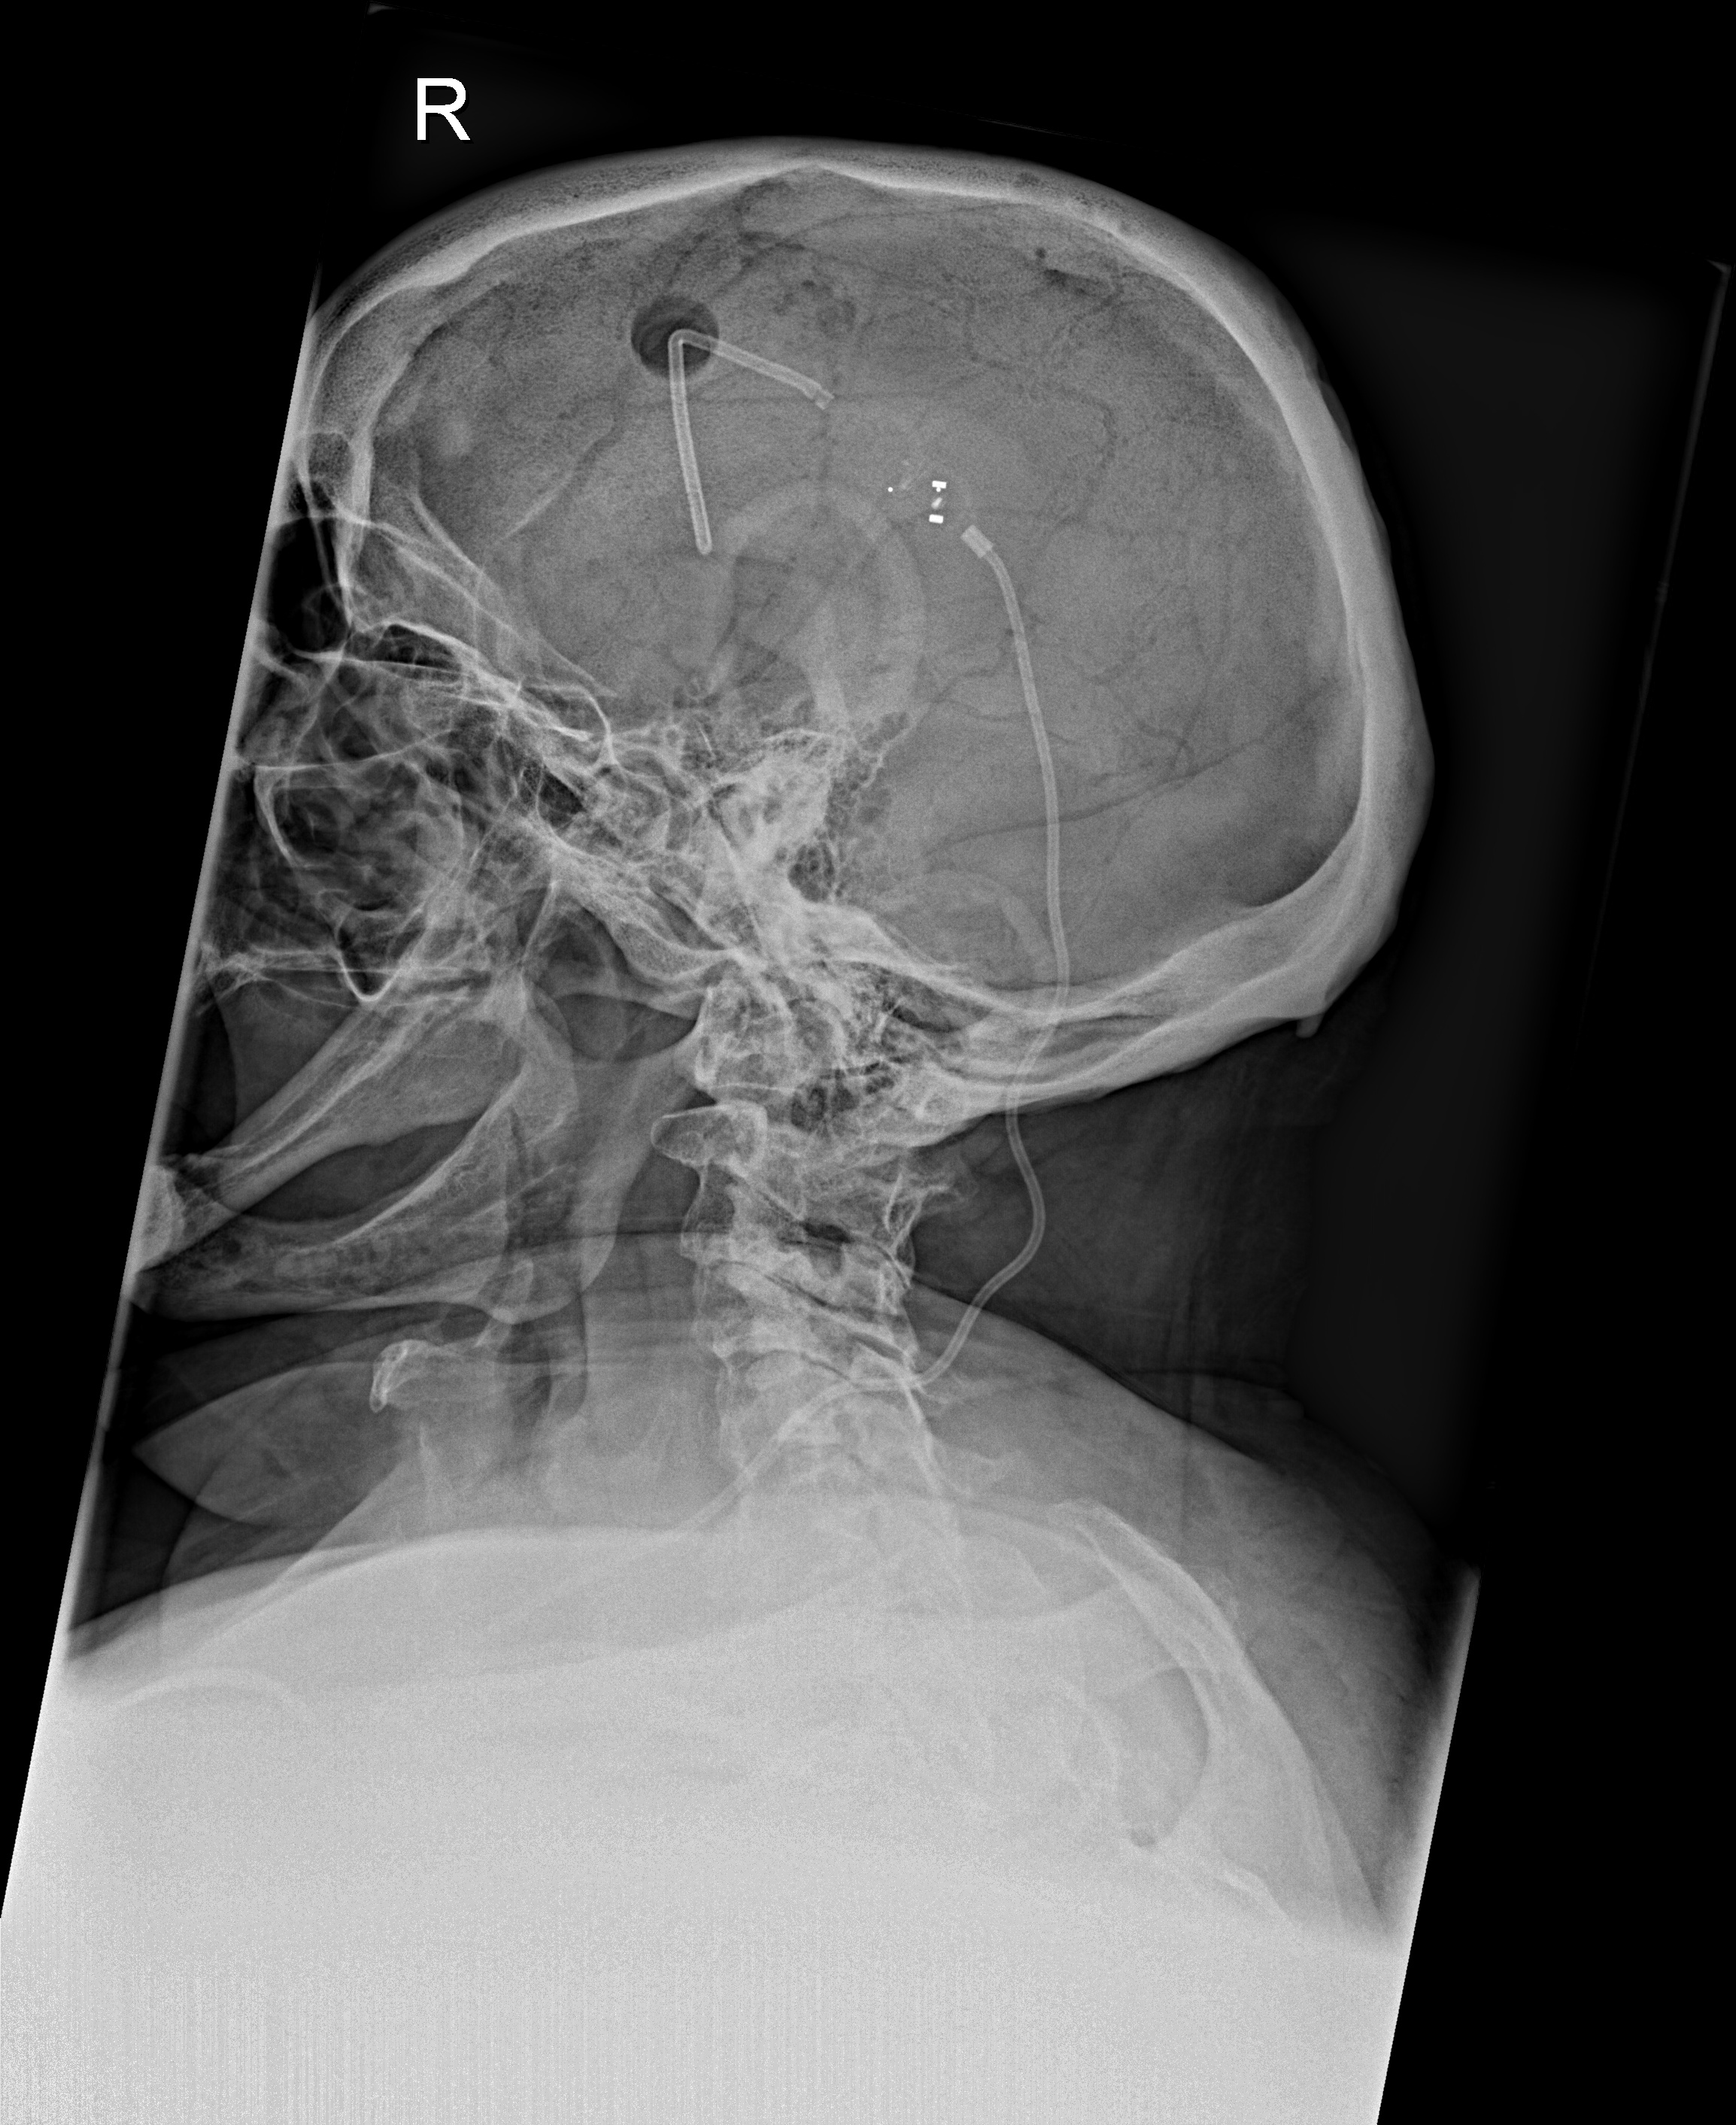Codman Certas: (877, 448, 986, 545)
